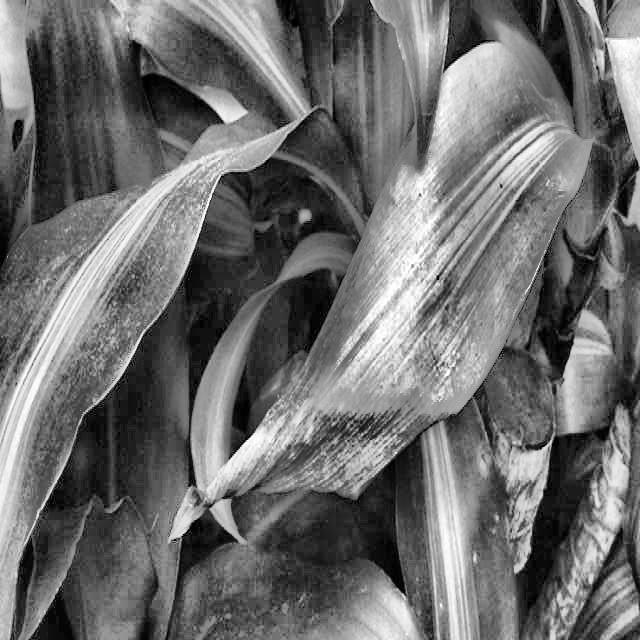plants: (168, 39, 590, 564)
